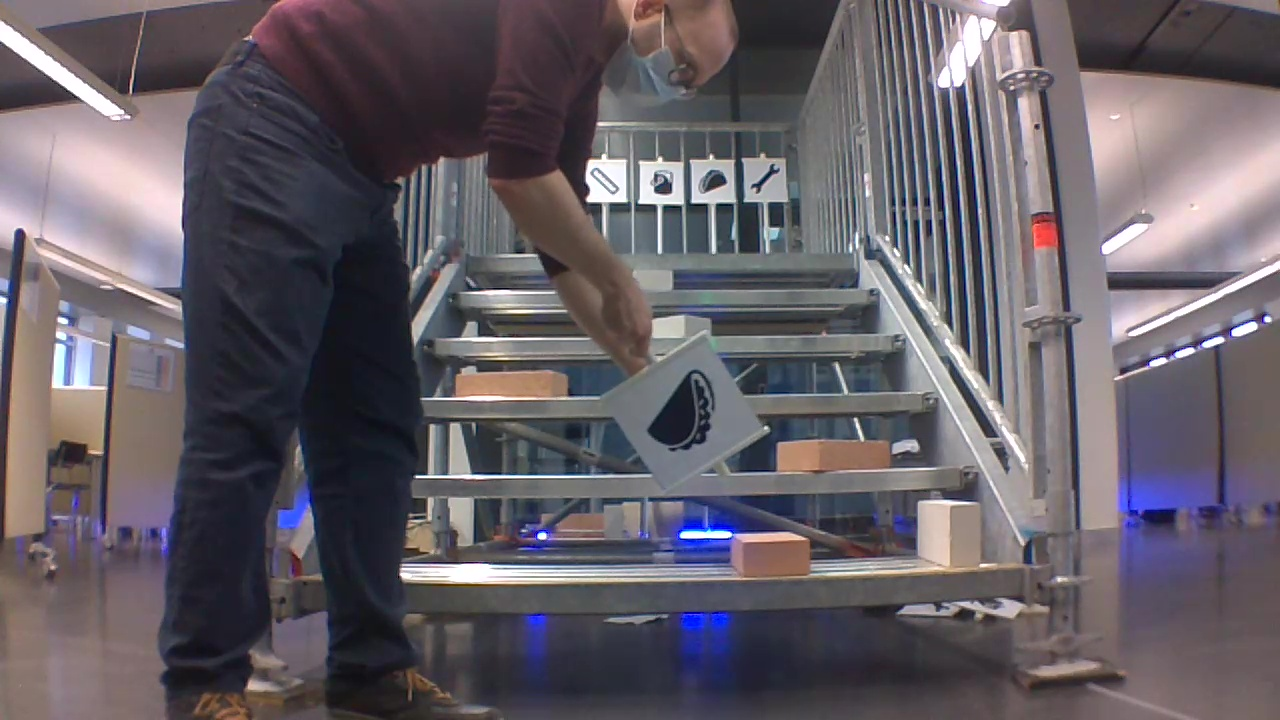brick: (918, 500, 980, 565), (730, 530, 809, 576), (779, 439, 889, 468), (456, 369, 565, 394), (654, 315, 710, 337), (636, 270, 672, 289)
bucket: (644, 168, 676, 196)
edge: (401, 567, 1029, 614)
ruler: (590, 165, 623, 197)
taco: (637, 363, 718, 457), (695, 165, 728, 195)
wrench: (748, 159, 783, 196)
